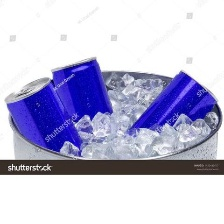can: (125, 67, 219, 143), (4, 77, 85, 156), (46, 53, 113, 135)
